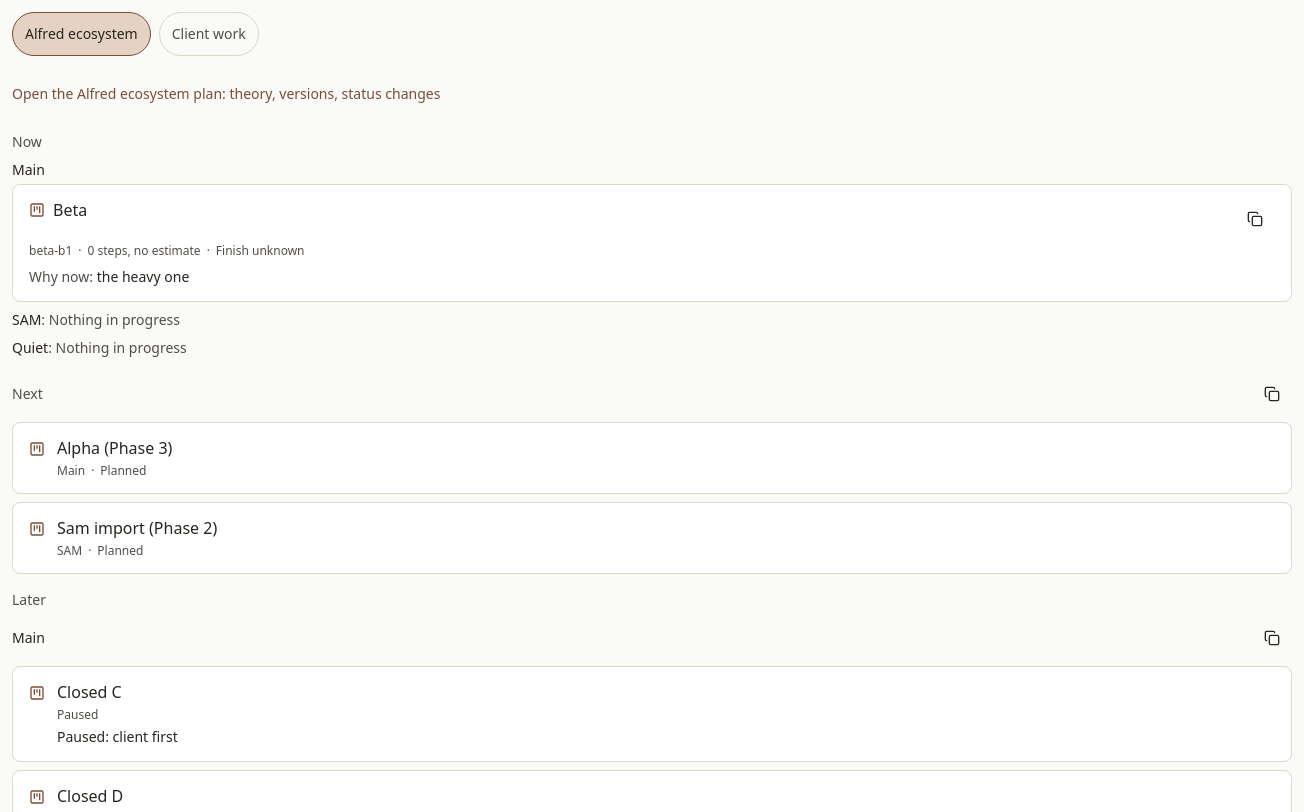
the switch remembers the portfolio; one with no plan says so and shows the active cards
The image size is (1304, 812).
Click the button "Client work": (209, 34) 159,12 -> 259,56
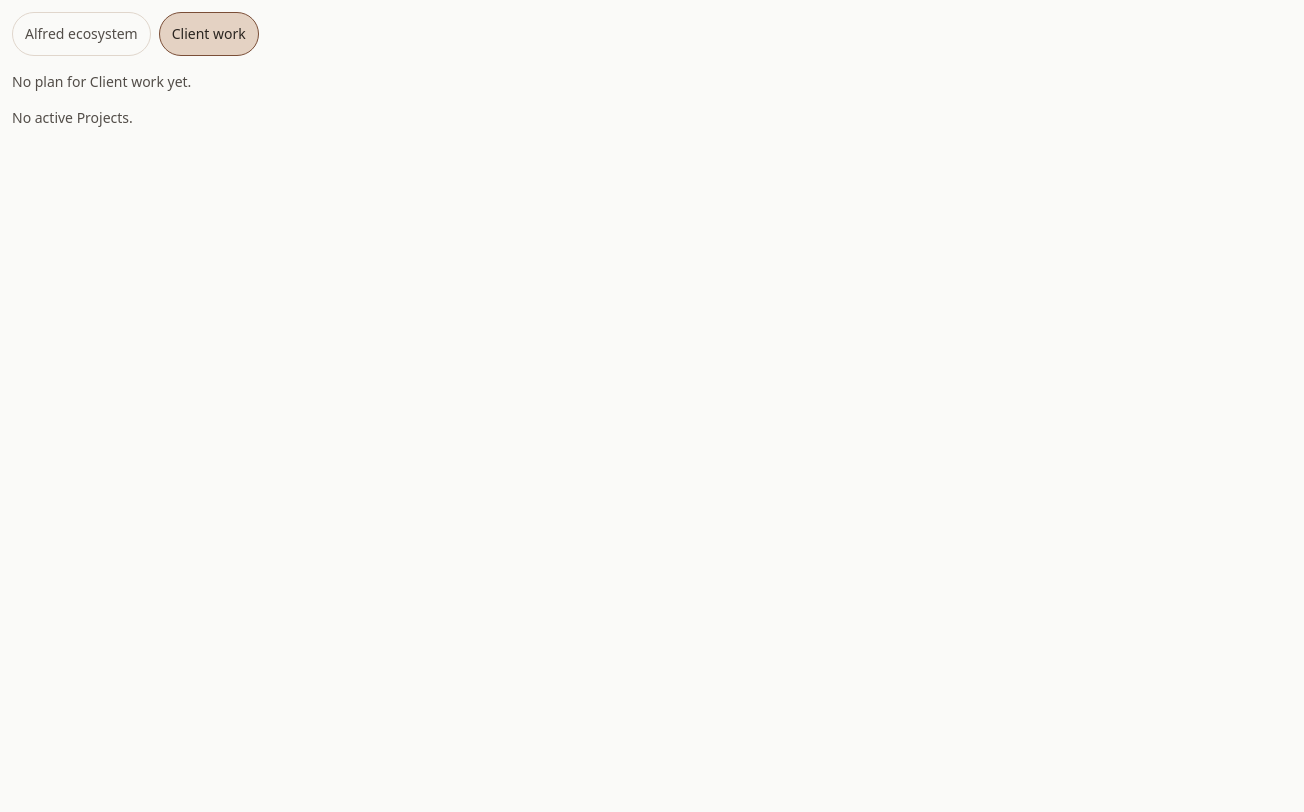
Expected: the text "No plan for Client work yet." is shown, 12,72 -> 191,91
Expected: the text "No active Projects." is shown, 12,108 -> 133,127
